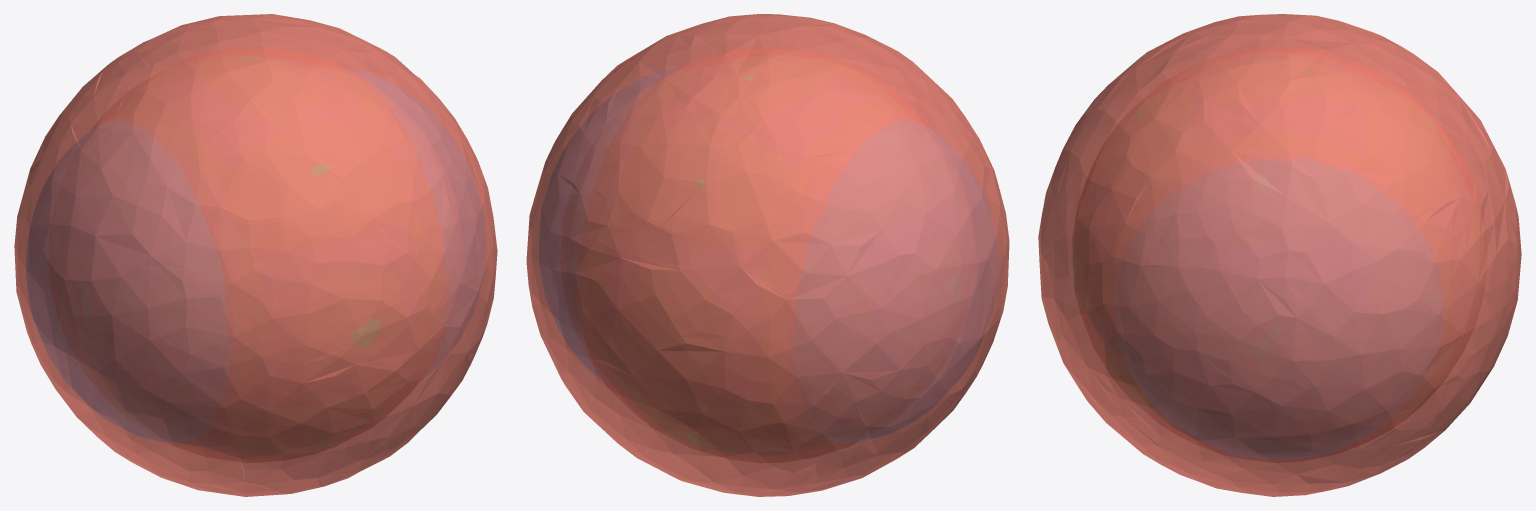
The model's file is orbital.glb.
The picture shows the model from 3 angles, left to right: view 1: azimuth 30°, elevation 25°; view 2: azimuth 150°, elevation 25°; view 3: azimuth 270°, elevation 25°; orthographic projection.
Visible parts, largest first — view 1: Nh_n7_s_ml0_node, Nh_n6_s_ml0_node, Nh_n7_p_ml1_node, Nh_n6_d_ml0_node; view 2: Nh_n7_s_ml0_node, Nh_n6_s_ml0_node, Nh_n7_p_ml1_node; view 3: Nh_n7_s_ml0_node, Nh_n6_s_ml0_node, Nh_n7_p_ml1_node.
Part boxes in pixels (left/top/right/bottom): Nh_n7_s_ml0_node: left=14, top=14, right=497, bottom=496; Nh_n6_s_ml0_node: left=91, top=48, right=448, bottom=462; Nh_n7_p_ml1_node: left=26, top=70, right=485, bottom=442; Nh_n6_d_ml0_node: left=333, top=319, right=381, bottom=347; Nh_n7_s_ml0_node: left=526, top=14, right=1009, bottom=496; Nh_n6_s_ml0_node: left=575, top=48, right=933, bottom=462; Nh_n7_p_ml1_node: left=539, top=69, right=997, bottom=442; Nh_n7_s_ml0_node: left=1038, top=14, right=1521, bottom=496; Nh_n6_s_ml0_node: left=1072, top=48, right=1487, bottom=462; Nh_n7_p_ml1_node: left=1120, top=340, right=1441, bottom=458.
Size of the model in its own units: 3.55 by 3.56 by 3.55.
